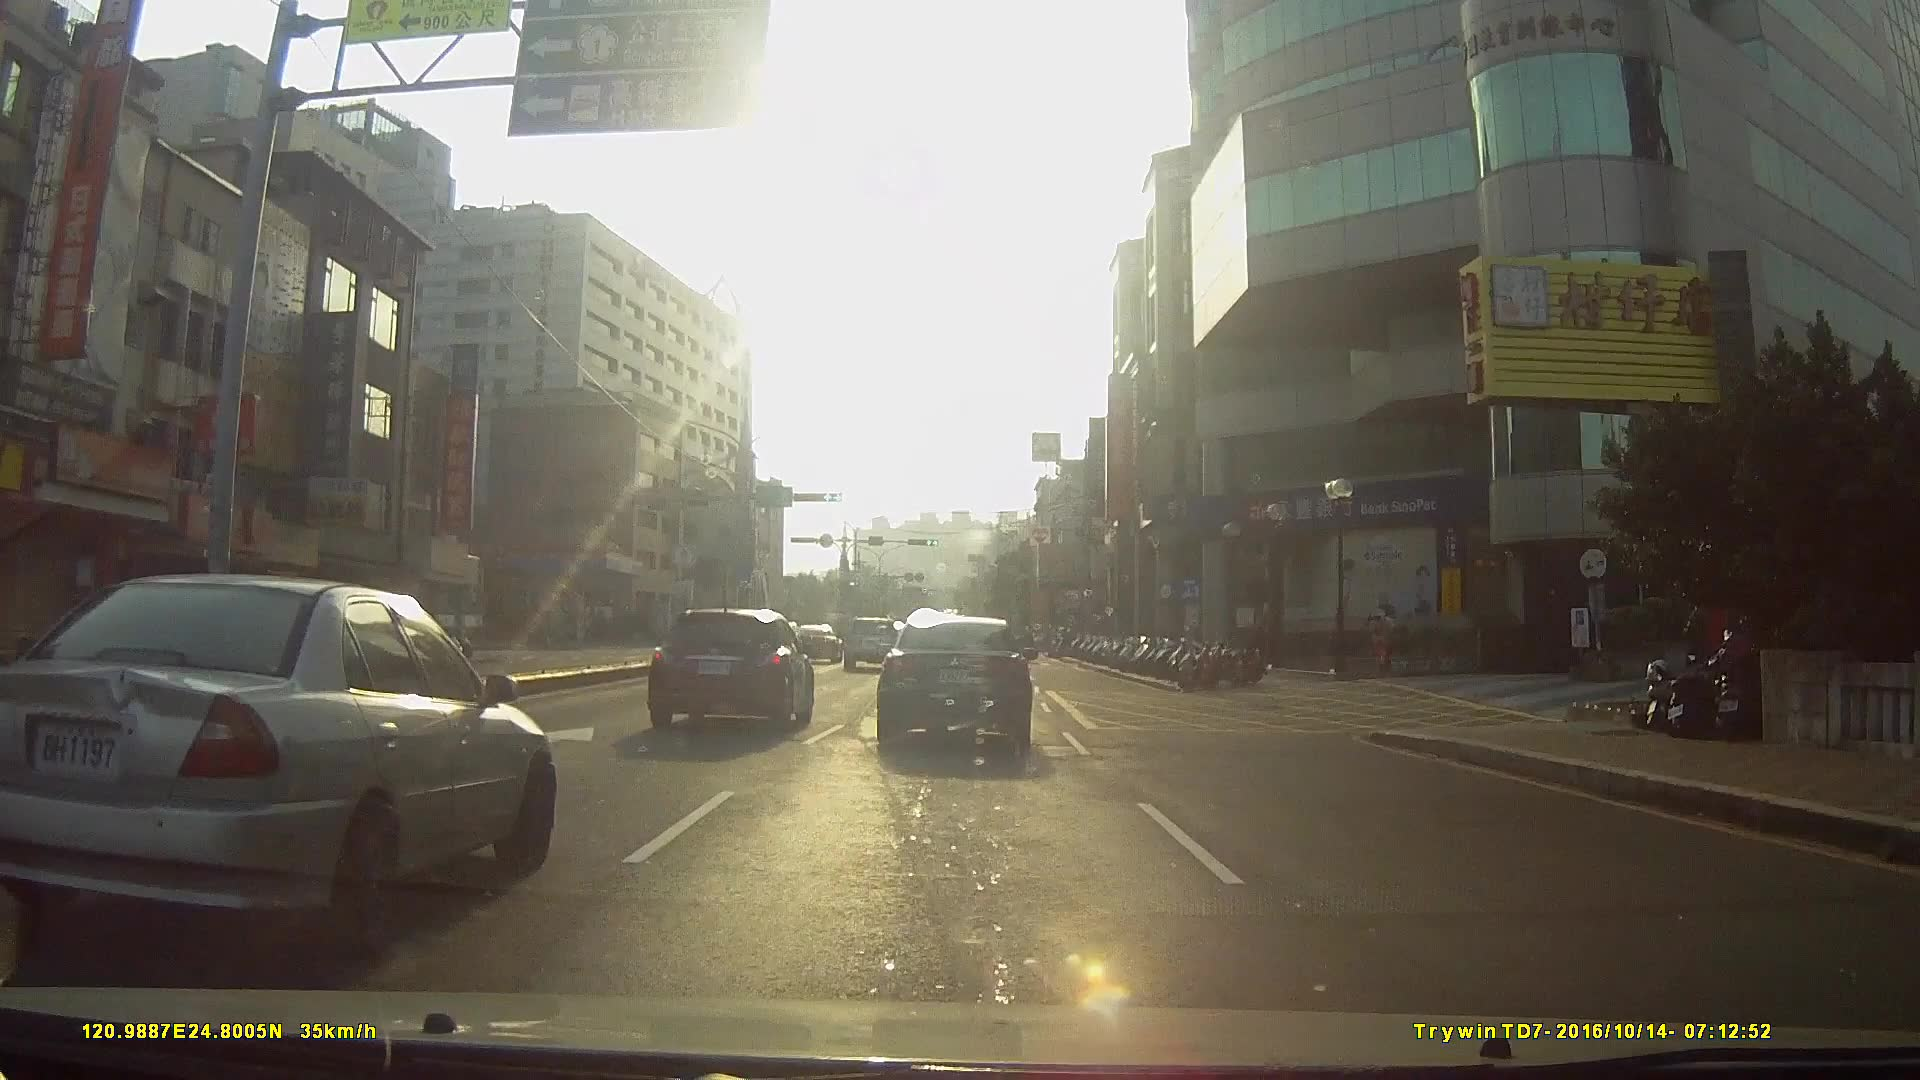pedestrian: (1361, 596, 1396, 680)
vehicle: (0, 568, 549, 960), (874, 606, 1034, 753), (644, 601, 815, 733), (838, 615, 899, 675), (788, 618, 839, 660)
